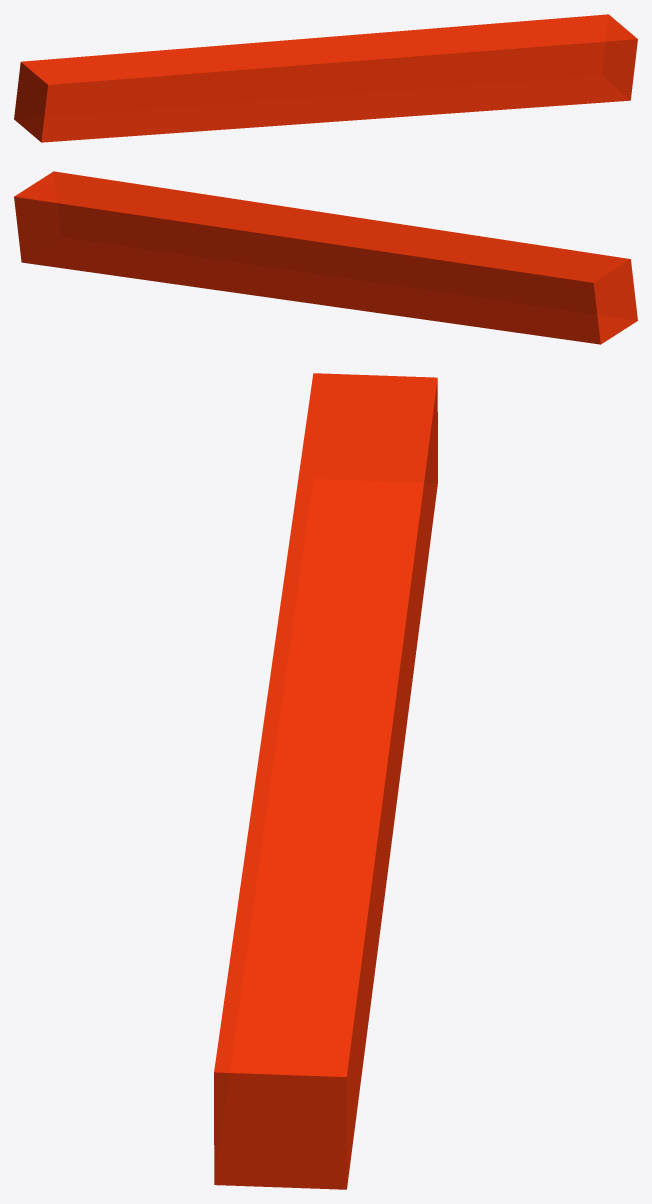
The model's file is Event_421127236_EErechit_53.fbx.
3 views of the same model, one above another, from view 1: azimuth 30°, elevation 25°; view 2: azimuth 150°, elevation 25°; view 3: azimuth 270°, elevation 25° (orthographic). The views are drawn at different scales.
Visible parts, largest first — view 1: Model; view 2: Model; view 3: Model.
Part boxes in pixels (left/top/right/bottom): Model: left=14, top=14, right=637, bottom=142; Model: left=14, top=171, right=637, bottom=344; Model: left=214, top=373, right=437, bottom=1189.
Bounding box in the file's own units: 0.7734 × 0.1722 × 0.1303.
